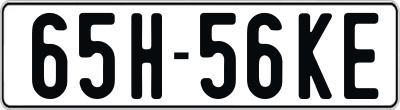5: (198, 13, 239, 102), (77, 12, 117, 99)
6: (30, 10, 70, 101), (244, 12, 280, 100)
E: (343, 12, 378, 100)
H: (128, 11, 161, 99)
K: (298, 12, 333, 98)
